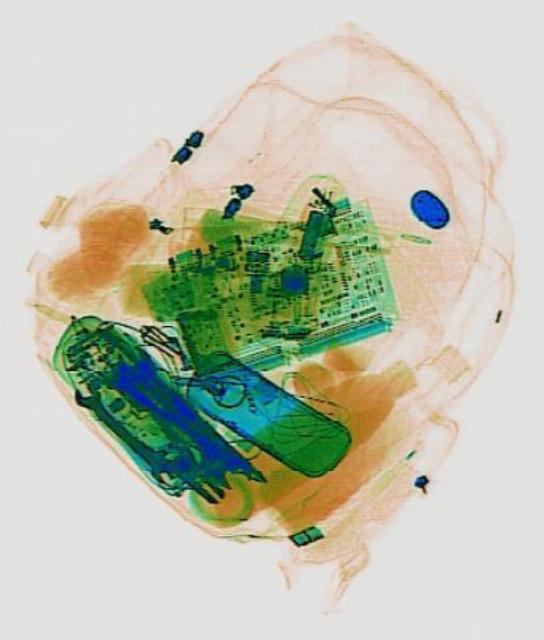Wrench: (106, 336, 255, 497), (67, 375, 180, 487)
